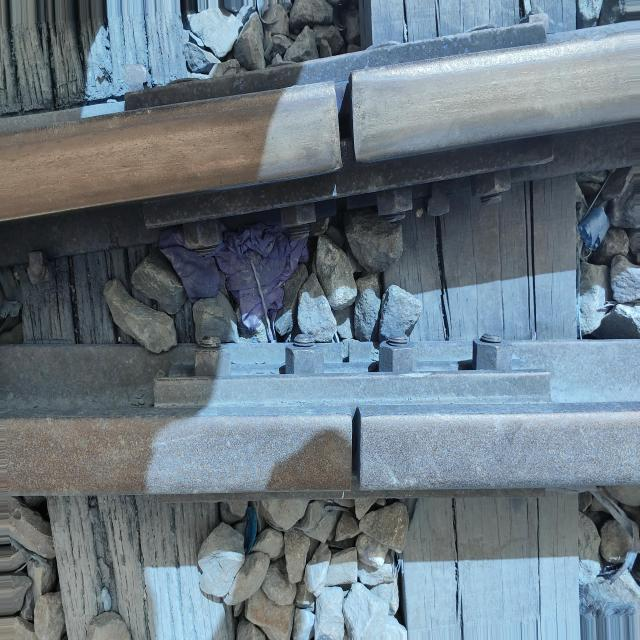crack: (311, 67, 400, 186), (333, 406, 392, 503)
